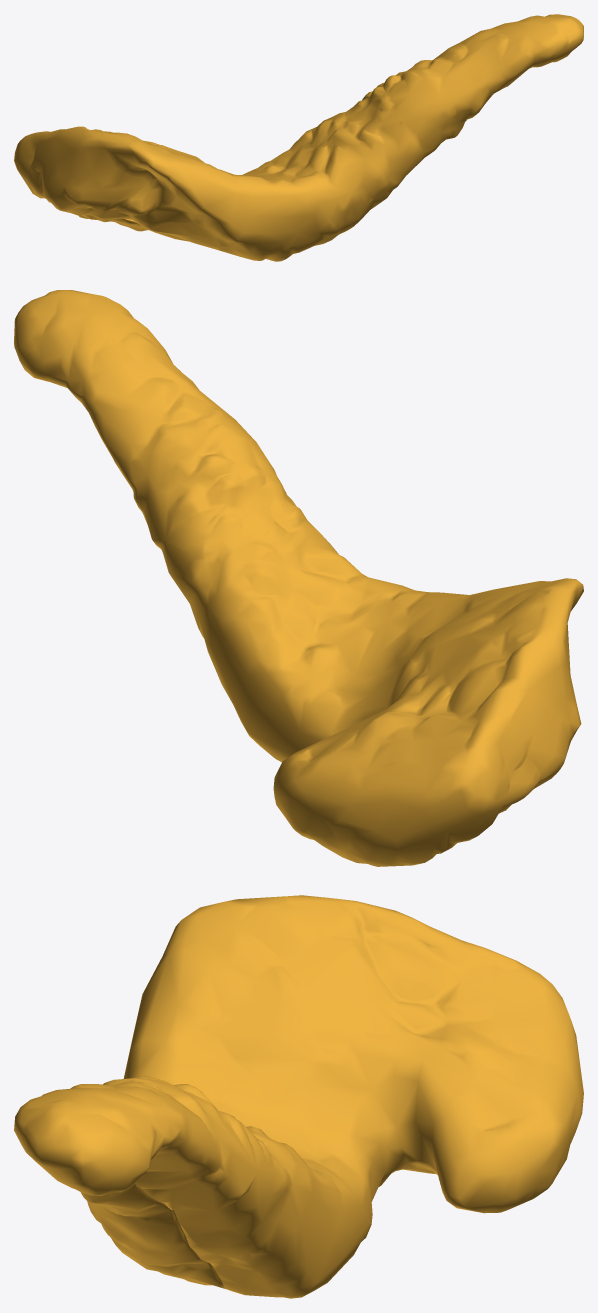
The picture shows the model from 3 angles, top to bottom: view 1: azimuth 30°, elevation 25°; view 2: azimuth 150°, elevation 25°; view 3: azimuth 270°, elevation 25°; orthographic projection. The views are drawn at different scales.
Visible parts, largest first — view 1: 胰; view 2: 胰; view 3: 胰.
Part boxes in pixels (x1,y1,x2,y2): 胰: [14, 14, 583, 261]; 胰: [14, 290, 583, 866]; 胰: [14, 895, 583, 1298].
Bounding box in the file's own units: 0.1741 × 0.0786 × 0.1087.
